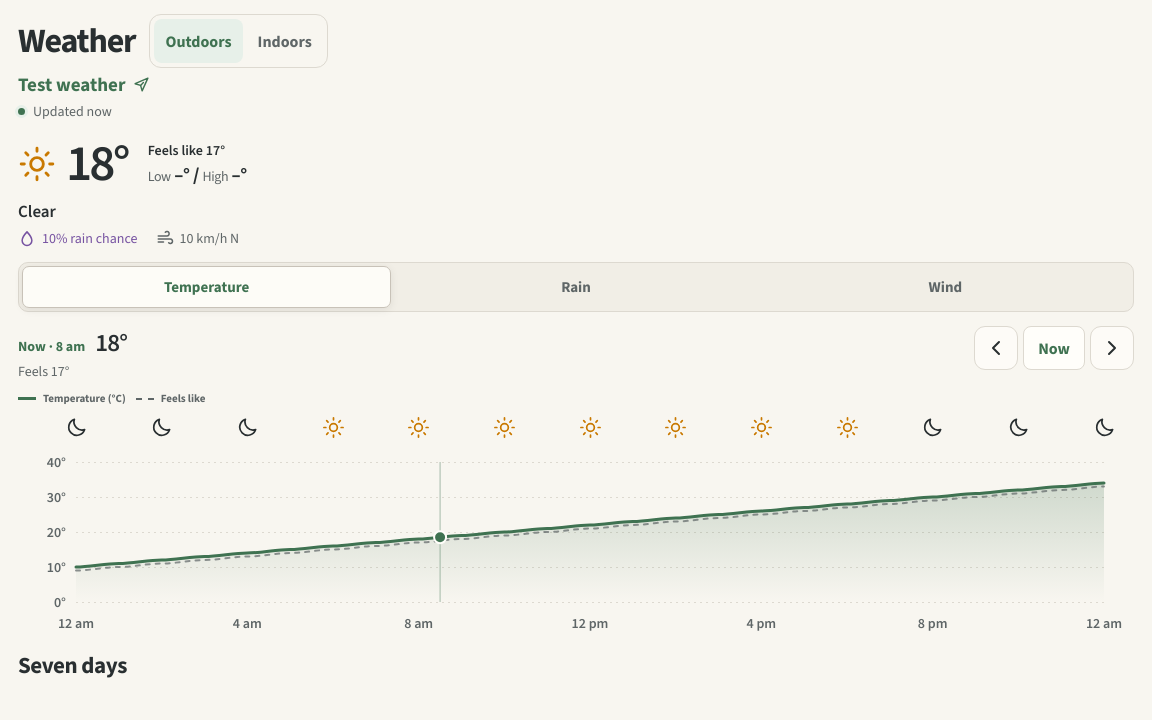
Scenario: weather clock and inspection › keeps explicit midnight endpoints, mode switching and previous/next controls
Click the button named "Next hour" at (1112,348), box top-left (1090, 326), bottom-right (1134, 370)
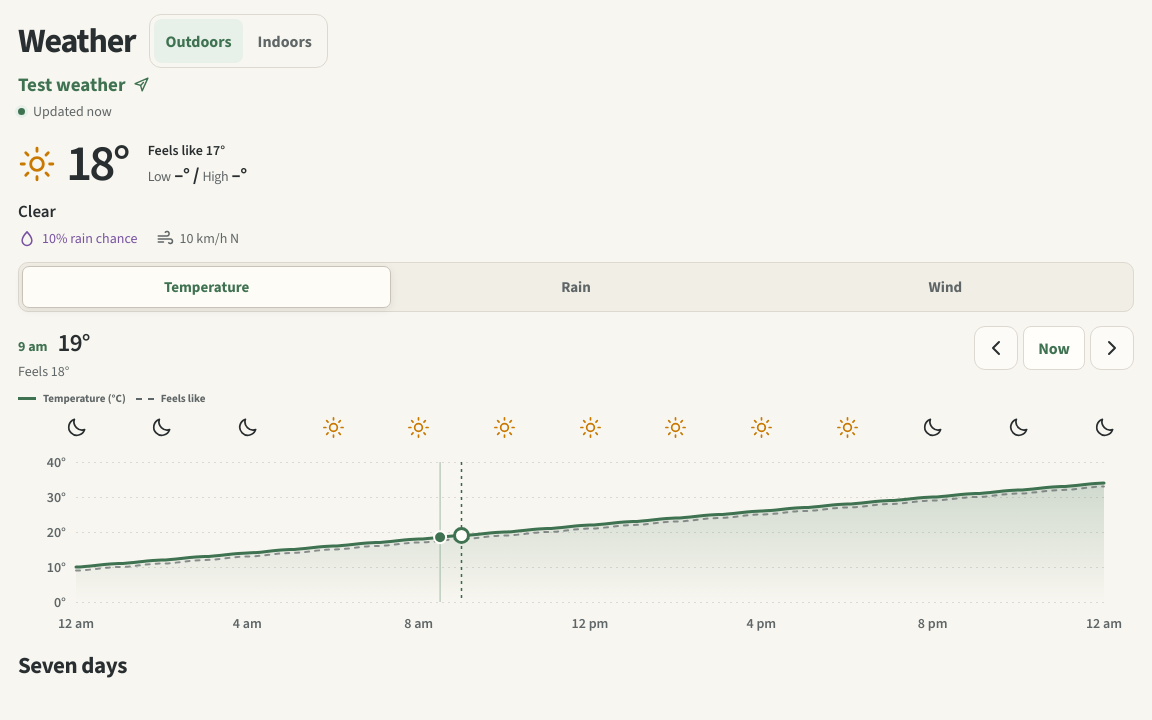
Result: the slider has attribute aria-valuenow="9"
Press ArrowDown in the slider, box top-left (18, 412), bottom-right (1134, 636)
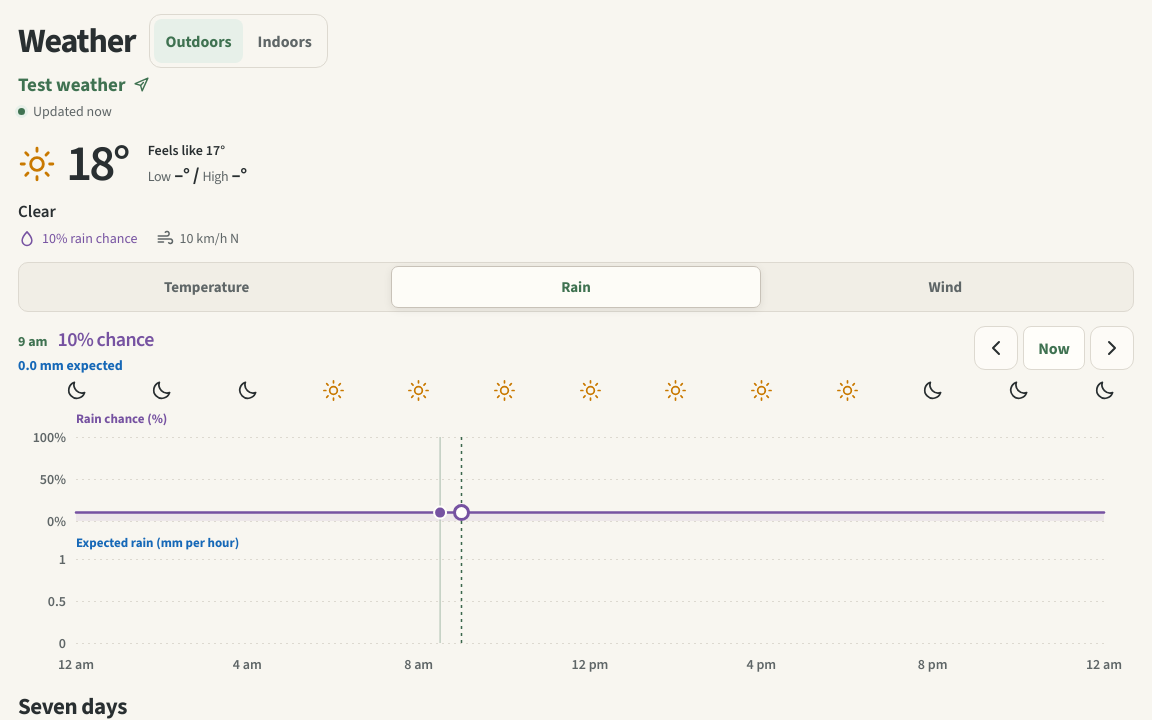
Result: the button "Rain" is pressed at top-left (391, 266), bottom-right (761, 308)
Click the button named "Previous hour" at (996,348), box top-left (974, 326), bottom-right (1018, 370)
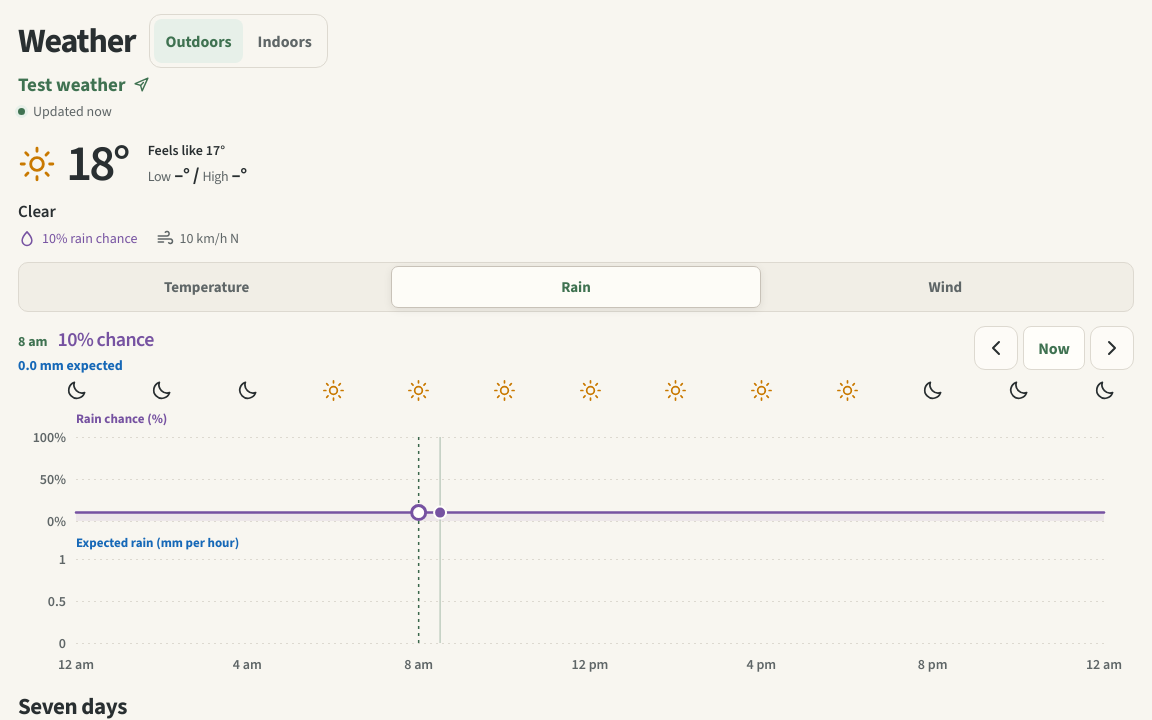
Result: the slider has attribute aria-valuenow="8"
Press ArrowRight in the slider, box top-left (18, 375), bottom-right (1134, 677)
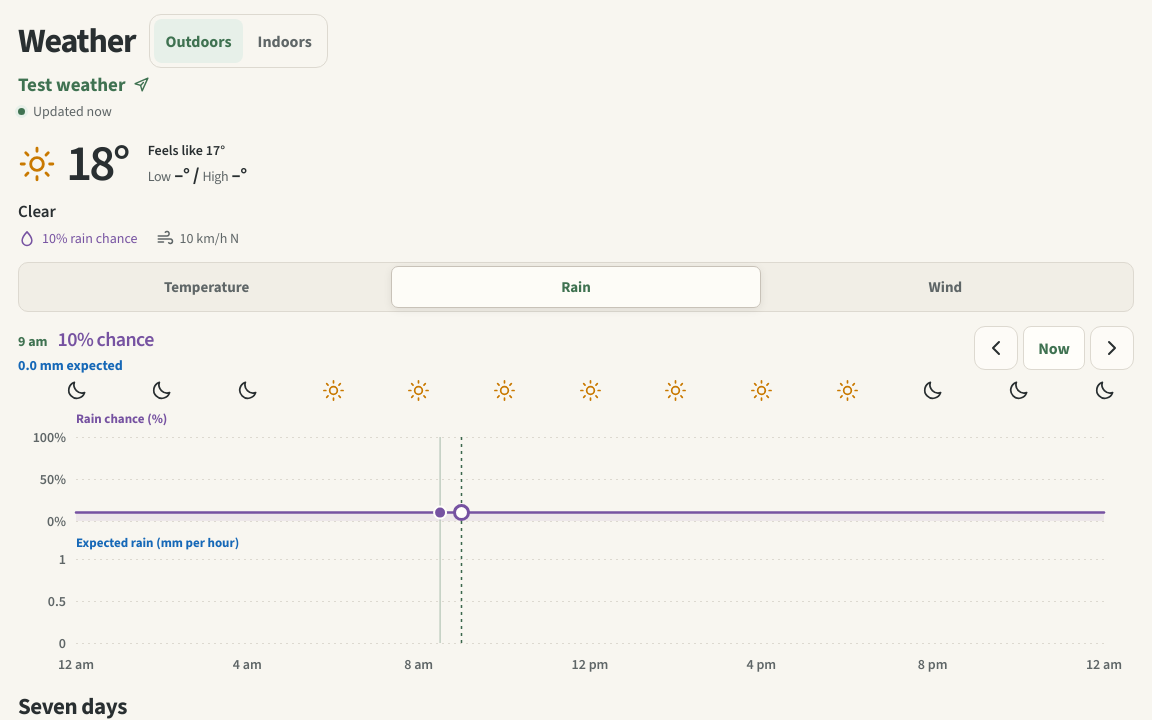
Press Enter in the slider, box top-left (18, 375), bottom-right (1134, 677)
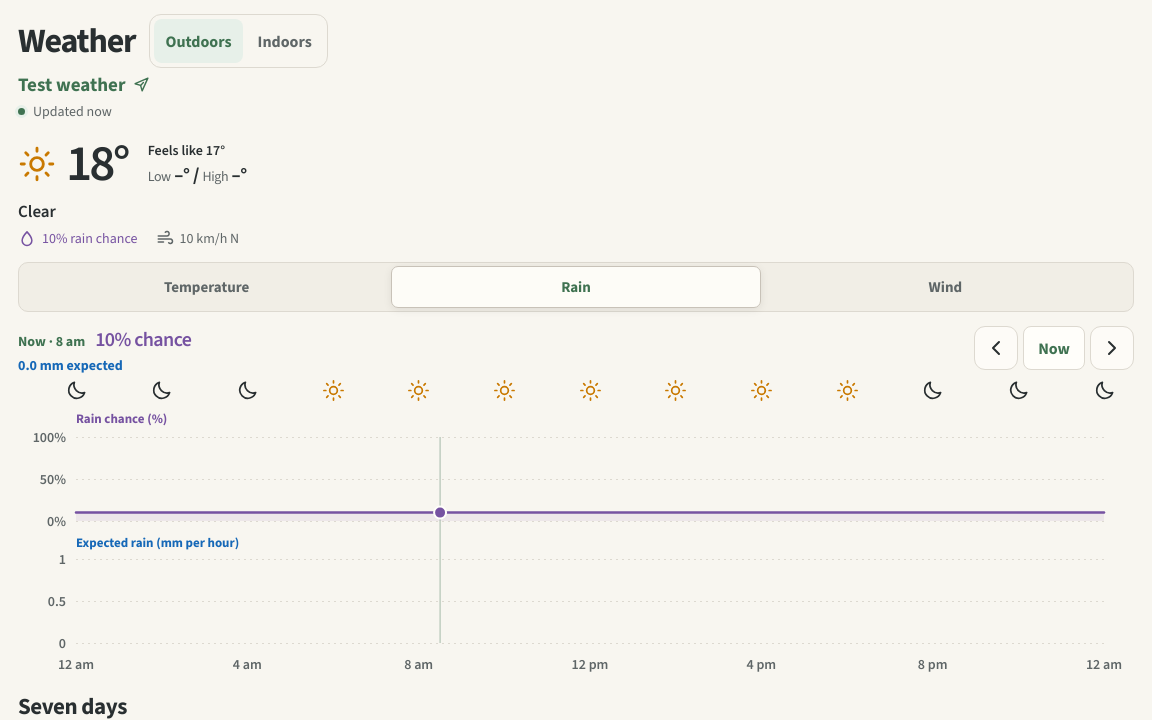
Result: the element with class "weather-selected-hour" shows "Now · 8 am" at top-left (18, 332), bottom-right (85, 351)
